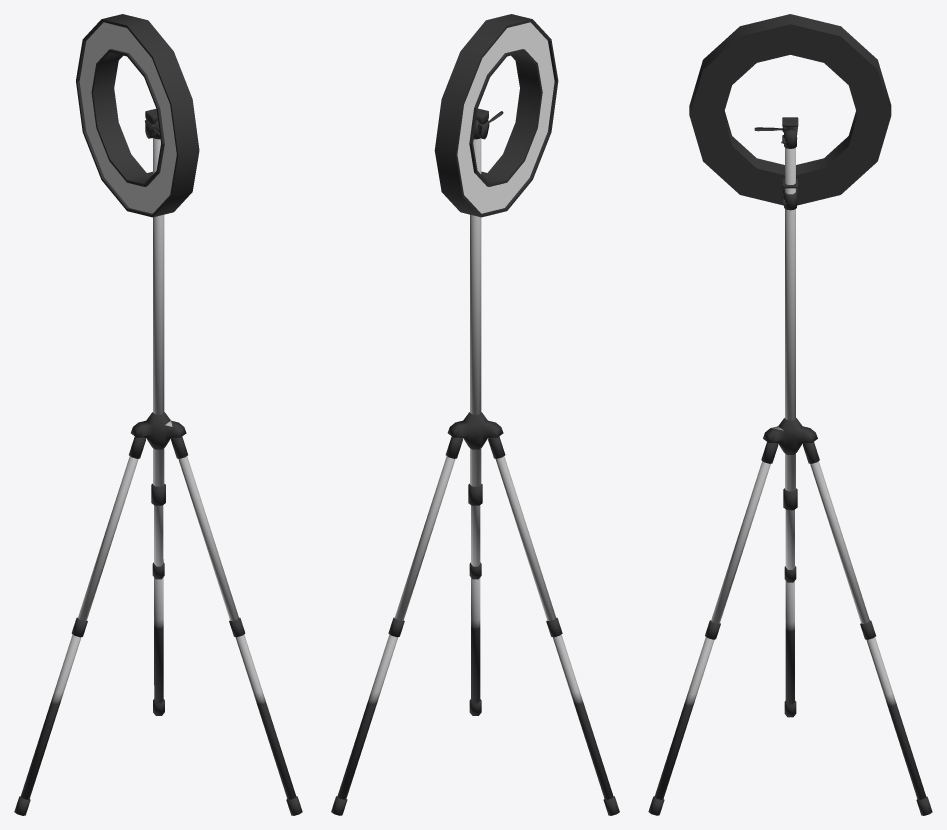
File: light.FBX
The picture shows the model from 3 angles, left to right: view 1: azimuth 30°, elevation 25°; view 2: azimuth 150°, elevation 25°; view 3: azimuth 270°, elevation 25°; orthographic projection.
Parts seen in each view (by area): view 1: light; view 2: light; view 3: light.
Boxes of the visible parts, x1=… form: light: x1=14, y1=14, x2=302, y2=815; light: x1=331, y1=14, x2=619, y2=815; light: x1=648, y1=14, x2=932, y2=815.
Bounding box in the file's own units: 11.05 × 37.19 × 12.73.
